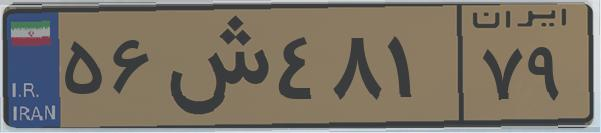1: (385, 28, 445, 110)
4: (270, 28, 330, 110)
5: (57, 26, 110, 100)
6: (110, 28, 158, 98)
7: (475, 38, 525, 113)
8: (330, 28, 385, 110)
9: (525, 38, 570, 115)
ش: (158, 12, 270, 120)
